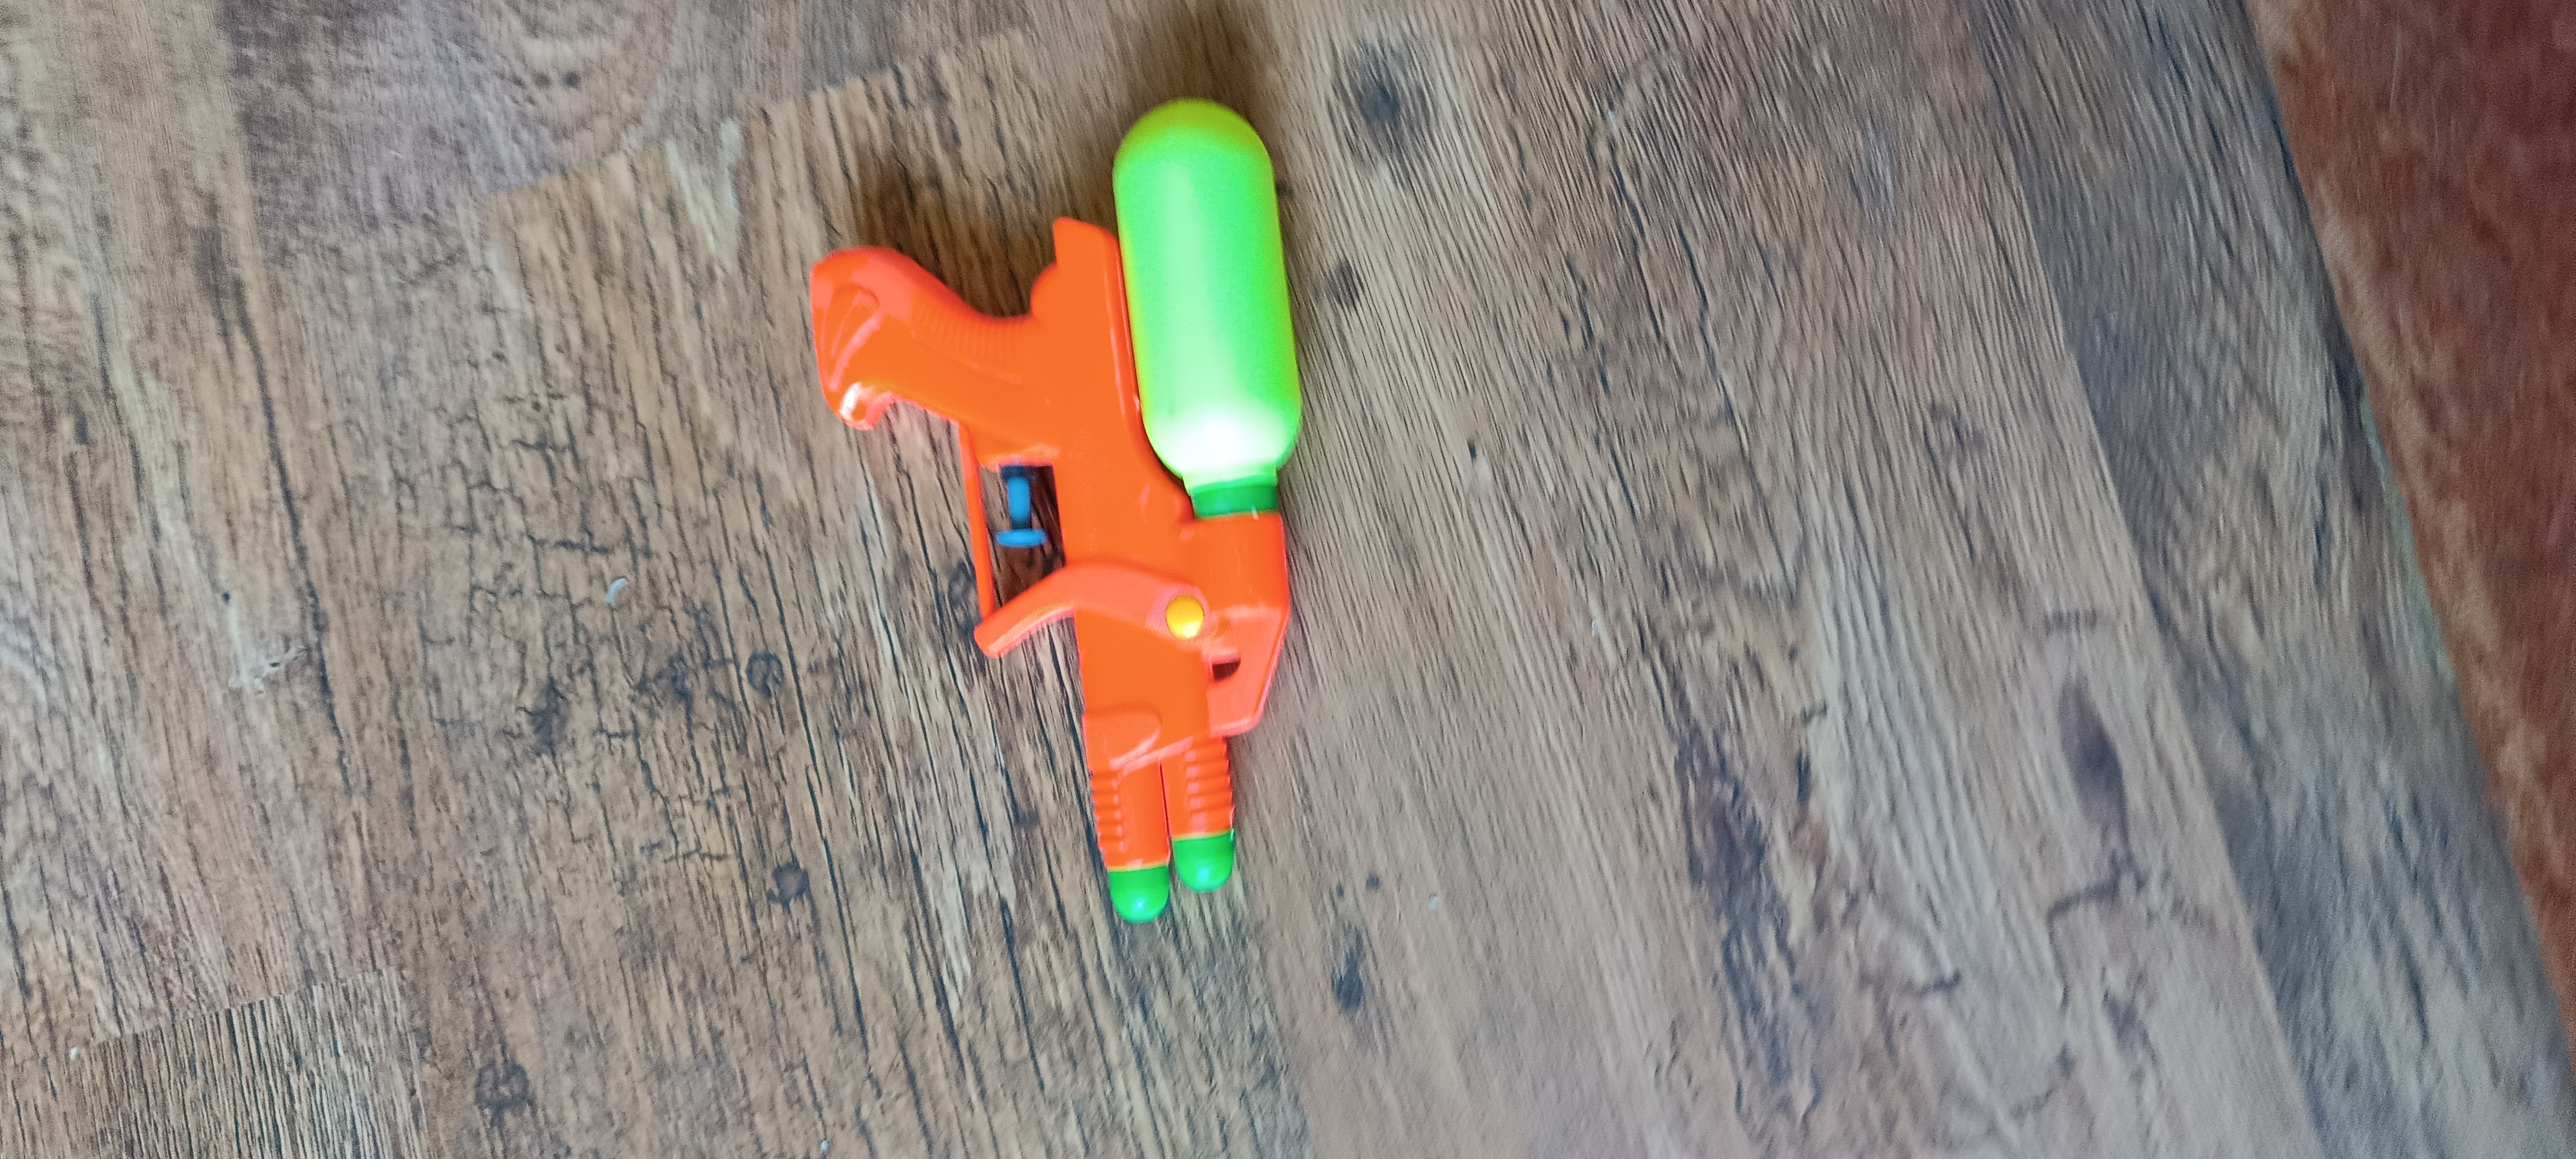Water Gun: (807, 95, 1303, 923)
